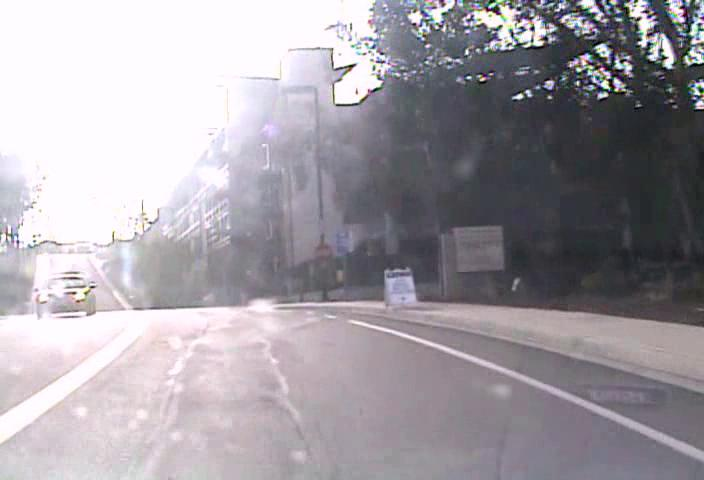stop: (313, 243, 333, 262)
